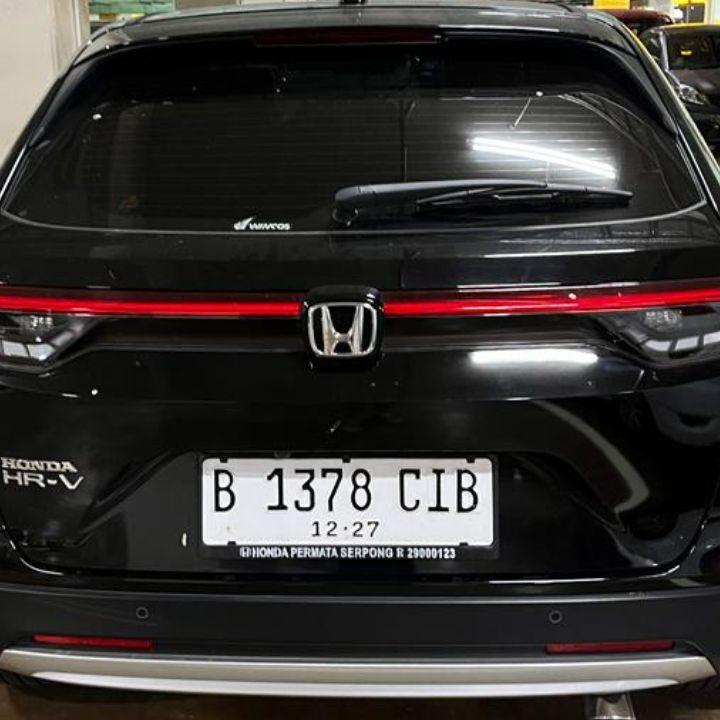plat: (202, 457, 494, 558)
